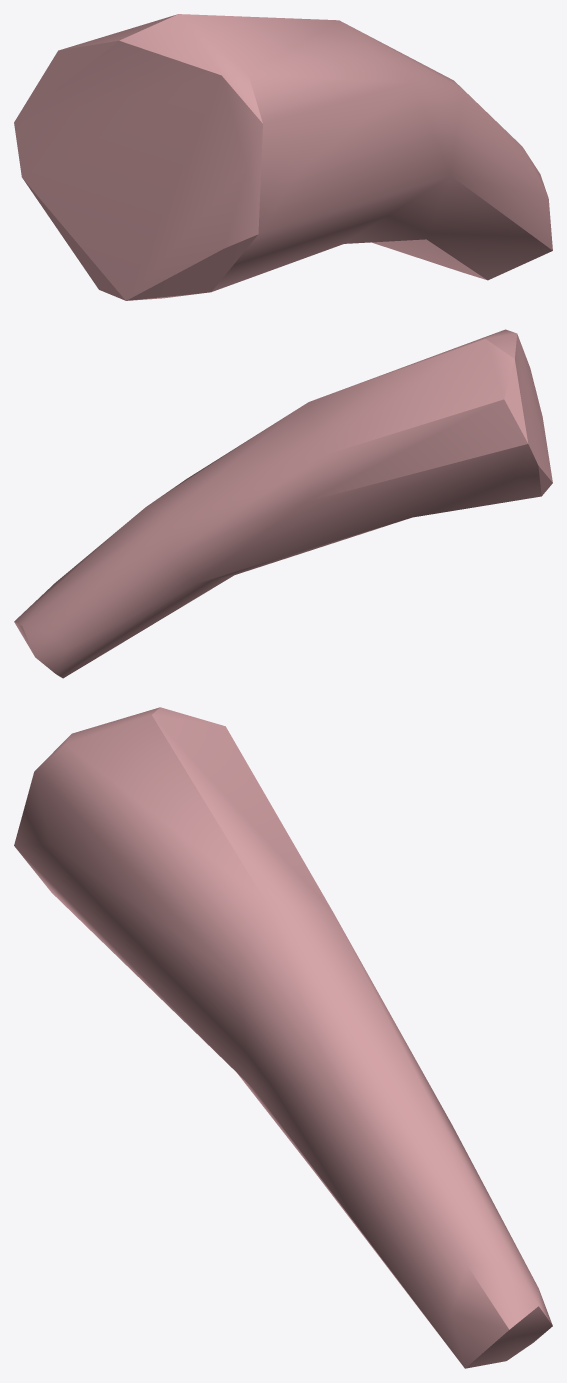
File: fma68226_fj2478.glb
3 views of the same model, one above another, from view 1: azimuth 30°, elevation 25°; view 2: azimuth 150°, elevation 25°; view 3: azimuth 270°, elevation 25° (orthographic). The views are drawn at different scales.
Parts seen in each view (by area): view 1: FMA68226_FJ2478; view 2: FMA68226_FJ2478; view 3: FMA68226_FJ2478.
Part boxes in pixels (<box>): FMA68226_FJ2478: <box>14,14,552,300</box>; FMA68226_FJ2478: <box>14,329,552,678</box>; FMA68226_FJ2478: <box>14,707,552,1368</box>.
Bounding box in the file's own units: 0.00941 × 0.00688 × 0.00755.
